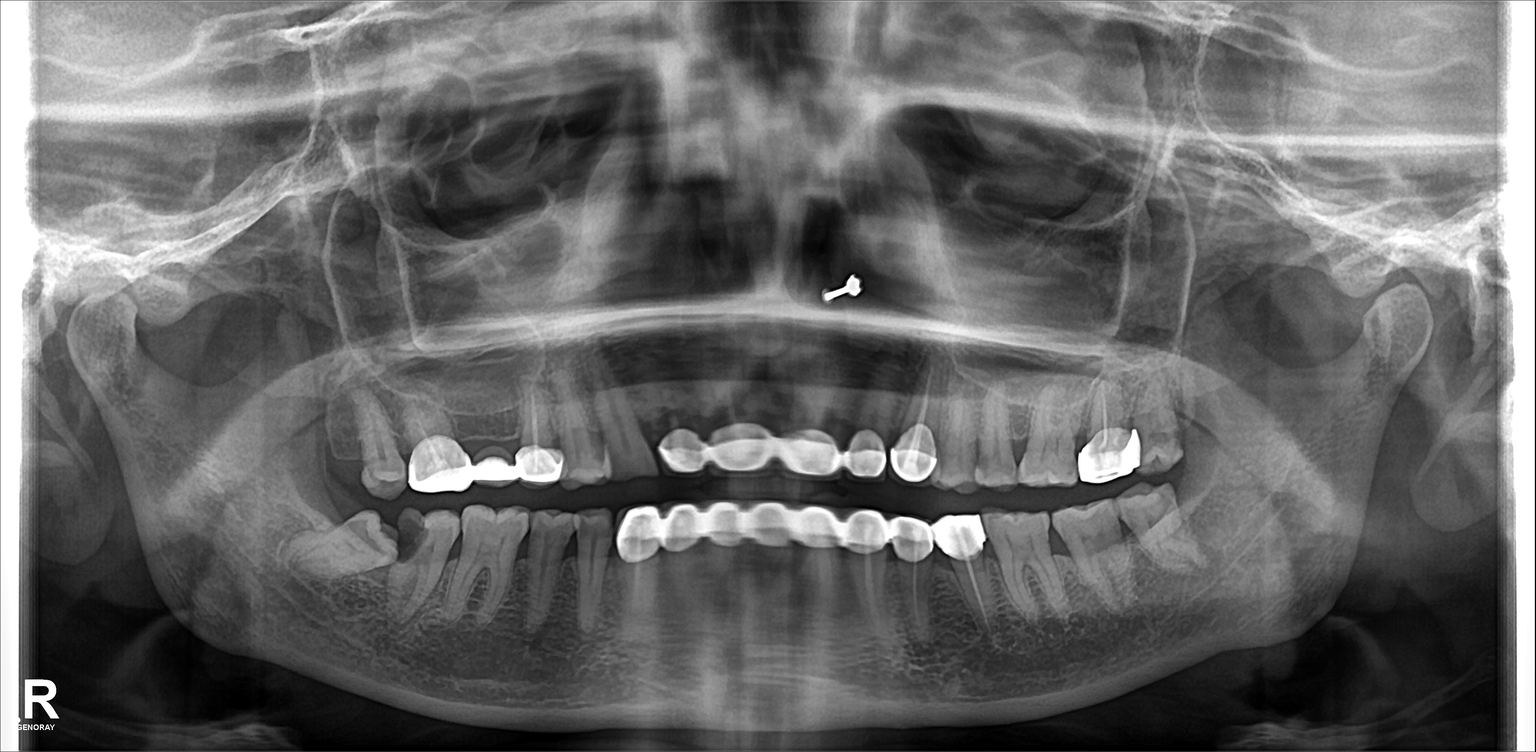Dental Caries: (385, 510, 432, 559)
Endodontically Treated Tooth: (1067, 369, 1140, 484), (939, 503, 997, 645), (857, 512, 897, 649), (462, 393, 514, 490), (412, 396, 462, 495), (620, 501, 660, 624), (905, 514, 939, 646), (516, 387, 560, 484), (903, 376, 939, 487)
Impacted Third Molar: (279, 520, 395, 581)
Missing Tooth: (305, 398, 369, 499)
